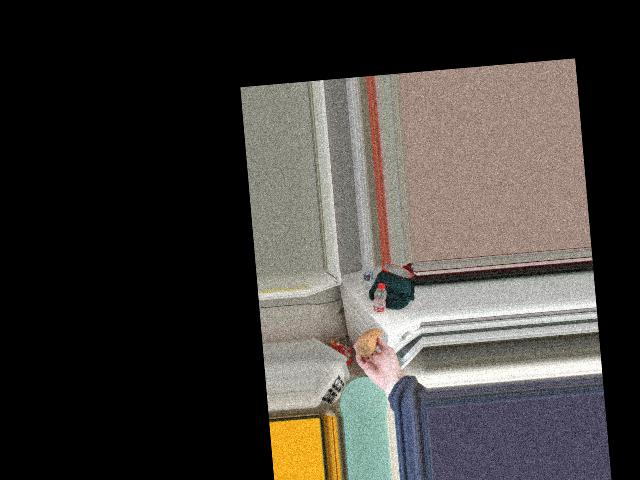sweet_potato: (357, 327, 387, 361)
